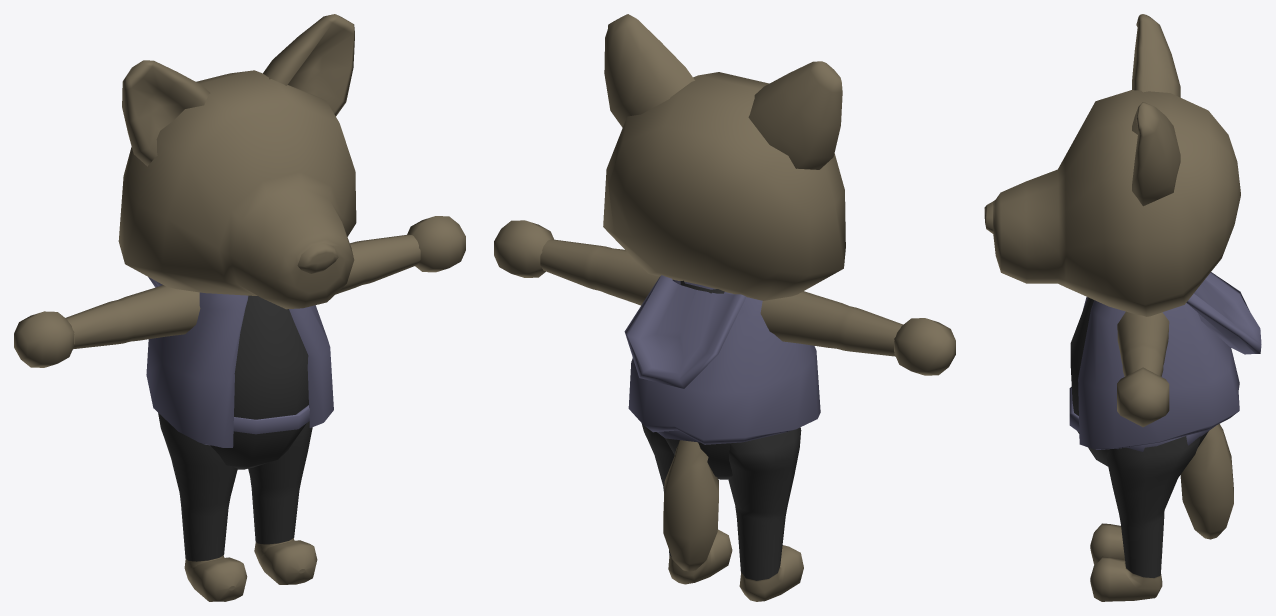
File: wolf_boy.fbx
The picture shows the model from 3 angles, left to right: view 1: azimuth 30°, elevation 25°; view 2: azimuth 150°, elevation 25°; view 3: azimuth 270°, elevation 25°; orthographic projection. The views are drawn at different scales.
Visible parts, largest first — view 1: Wolf_Geo; view 2: Wolf_Geo; view 3: Wolf_Geo.
Part boxes in pixels (x1=…): Wolf_Geo: x1=14, y1=14, x2=465, y2=601; Wolf_Geo: x1=494, y1=14, x2=955, y2=601; Wolf_Geo: x1=984, y1=14, x2=1261, y2=601.
Bounding box in the file's own units: 7.05 × 8.14 × 3.93.
